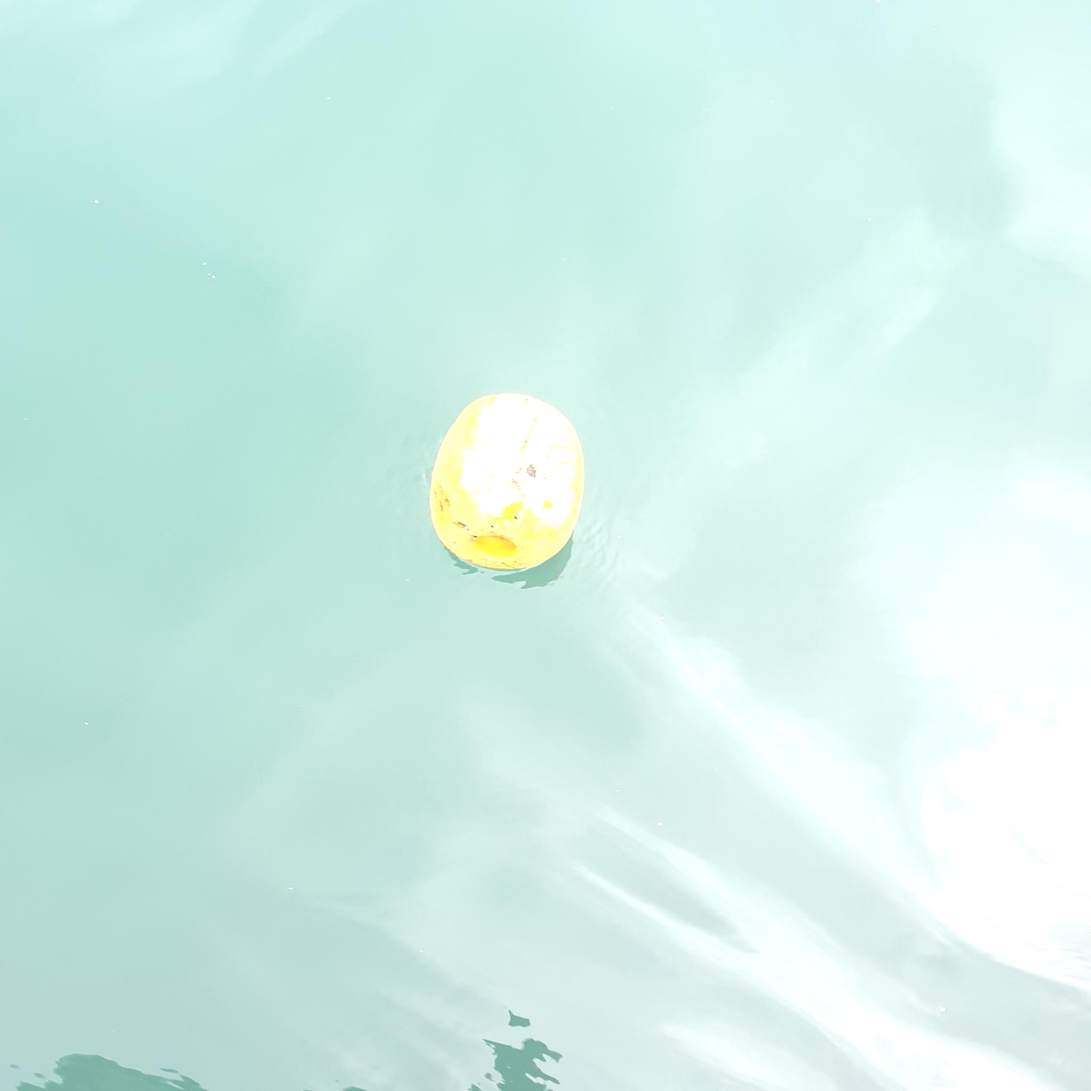sampah_terapung: (429, 393, 585, 571)
